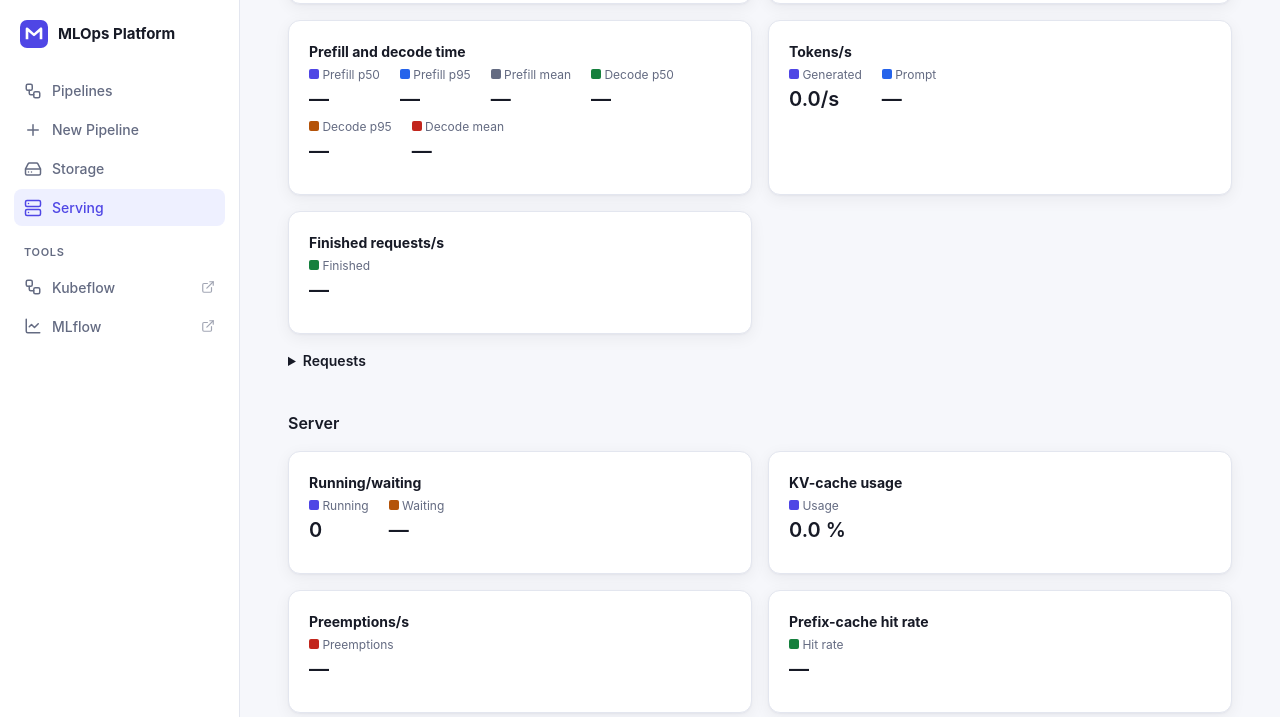
Scenario: the Requests tabs switch between the slowest and the most recent
The image size is (1280, 717).
(page scrolled)
Click the heading "Requests" at [334, 360], box top-left (303, 352), bottom-right (366, 368)
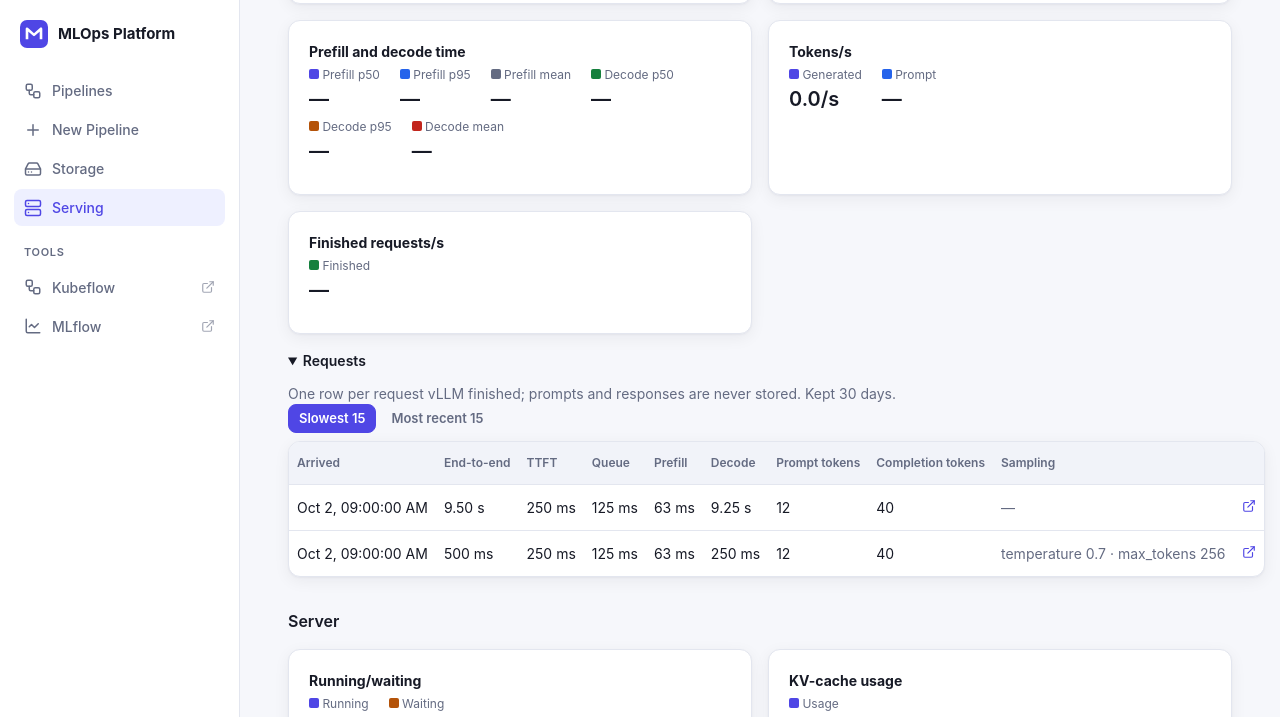
Click the tab "Most recent 15" at [438, 418], box top-left (380, 404), bottom-right (494, 433)
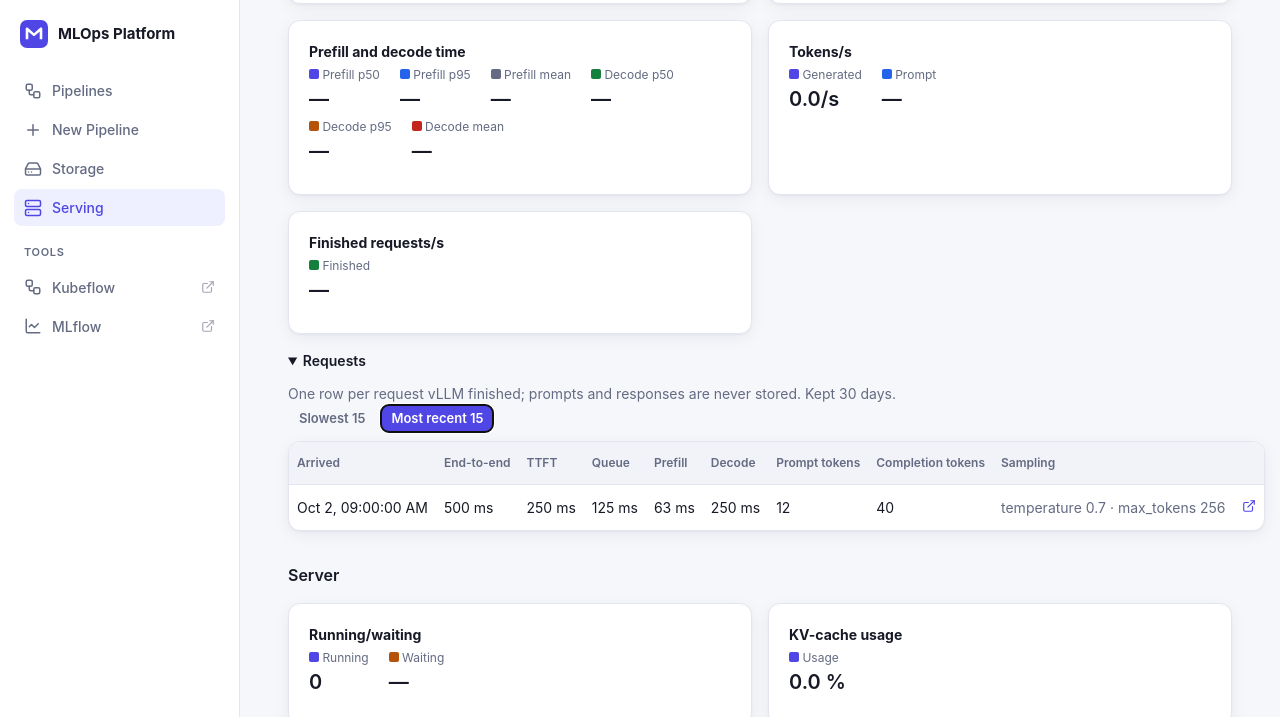
Expected: the text "9.50 s" is gone
